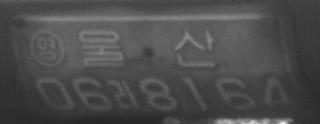0: (35, 75, 75, 112)
1: (178, 75, 211, 110)
4: (261, 75, 296, 112)
6: (213, 75, 257, 110), (76, 75, 113, 113)
8: (139, 75, 177, 111)
라: (113, 77, 140, 110)
영: (28, 28, 65, 68)
울산_D: (77, 27, 216, 70)
